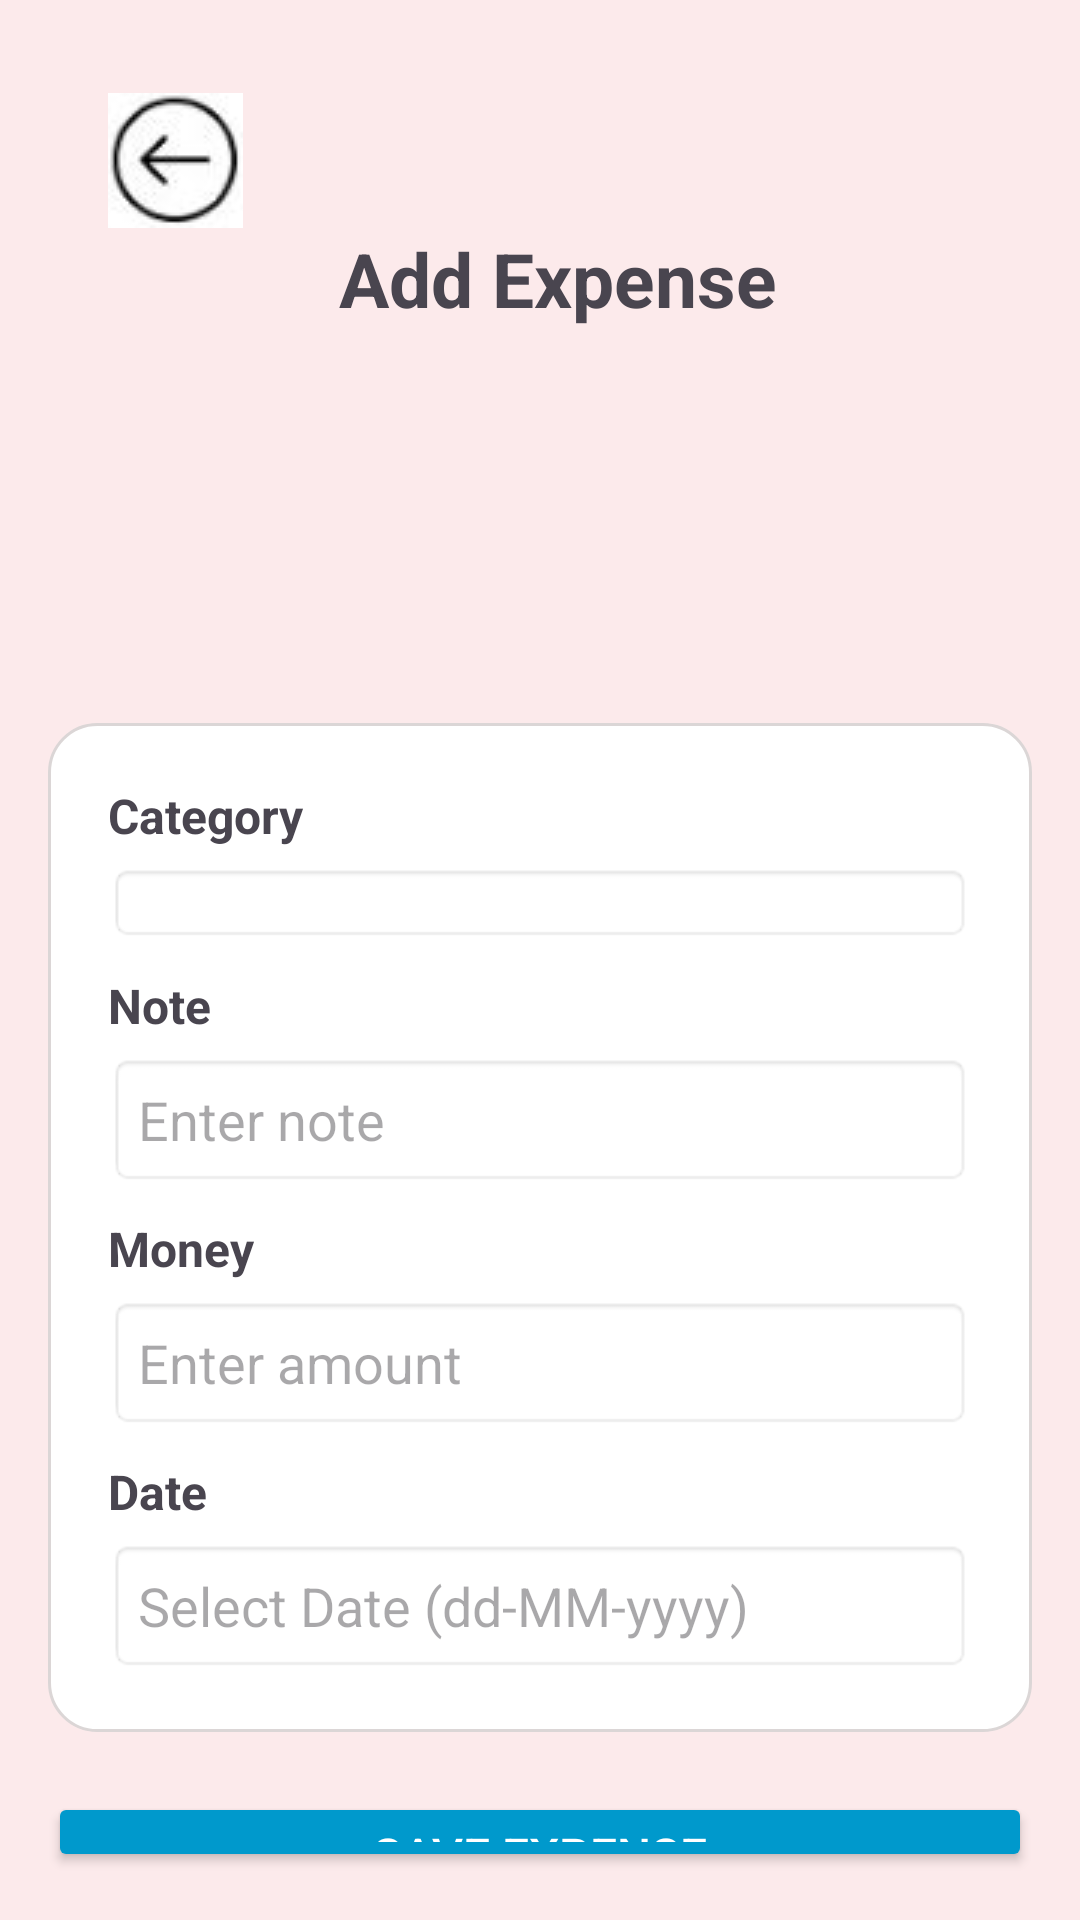

Where to tap for icons on this 1080*1920 app screen, as (x,y):
back: (175,160)
